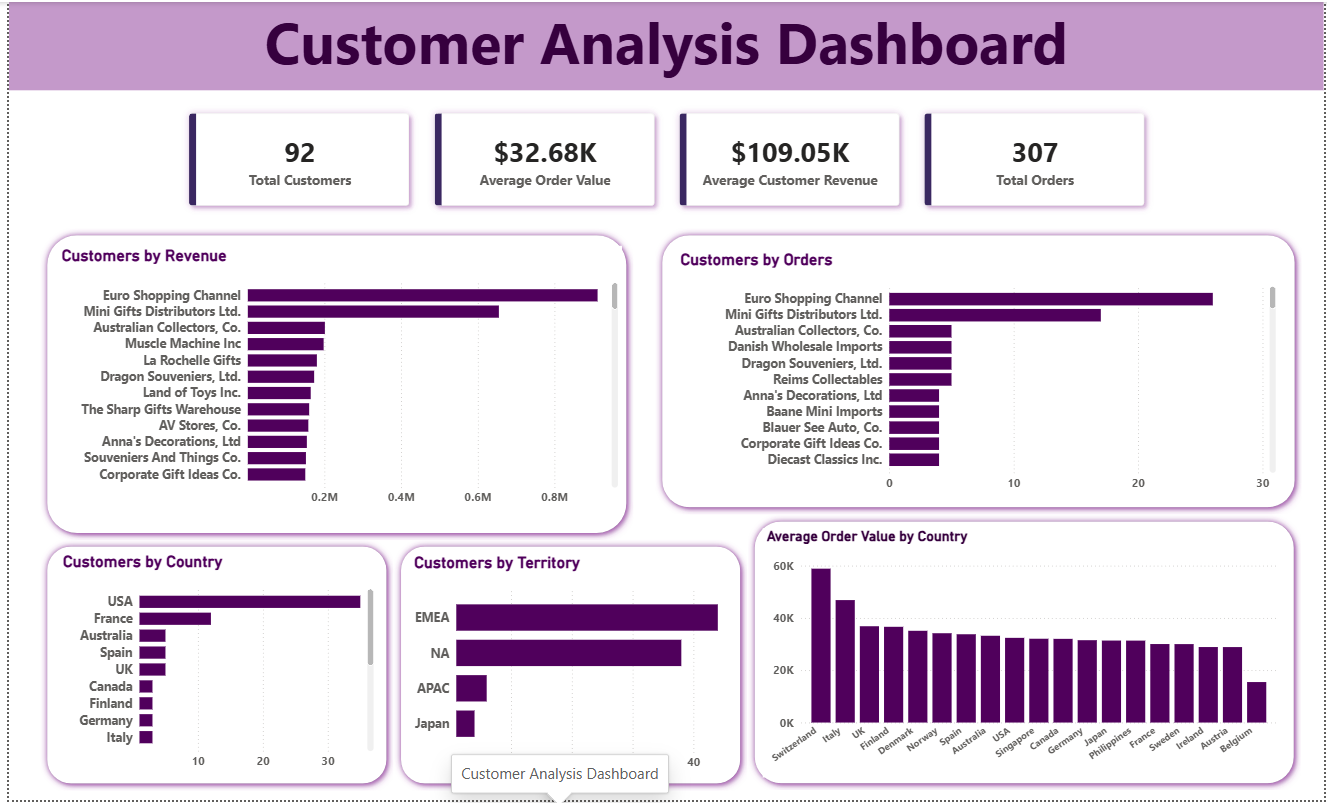

Layout of this report page (visuals, bound fields, positions):
{"tool":"powerbi","page":{"name":"Customer Analysis Dashboard ","canvas":[1680,1020],"ordinal":2},"visuals":[{"type":"cardVisual","fields":{"Data":["Measures (2).Total Customers","Measures (2).Average Order Value","Measures (2).Average Customer Revenue","Measures (2).Total Orders"]},"box":[200.9,112.8,1279.4,176.2],"z":0},{"type":"shape","title":"Customer Analysis Dashboard","box":[0,0,1679.4,112.8],"z":1000},{"type":"shape","box":[40.5,289,757.8,398.3],"z":2000},{"type":"clusteredBarChart","title":"Customers by Revenue","fields":{"Y":["Measures (2).Total Revenue"],"Category":["Customers.customer_company_name"]},"box":[61.7,311.9,720.8,341.9],"z":3000},{"type":"shape","box":[825.8,289.8,825.8,365.5],"z":4000},{"type":"clusteredBarChart","title":"Customers by Orders","fields":{"Category":["Customers.customer_company_name"],"Y":["Measures (2).Total Orders"]},"box":[852.3,316.3,770.9,318.2],"z":5000},{"type":"shape","box":[40.5,687.3,451.1,320.7],"z":6000},{"type":"clusteredBarChart","title":"Customers by Country","fields":{"Category":["Customers.country"],"Y":["Measures (2).Total Customers"]},"box":[63.4,703.1,407.1,287.3],"z":7000},{"type":"shape","box":[491.7,687.3,451.1,320.7],"z":8000},{"type":"clusteredBarChart","title":"Customers by Territory","fields":{"Y":["Measures (2).Total Customers"],"Category":["Customers.territory"]},"box":[513.3,704.6,407.1,287.3],"z":9000},{"type":"shape","box":[943.2,655.3,706.5,352.3],"z":10000},{"type":"columnChart","title":"Average Order Value by Country","fields":{"Y":["Measures (2).Average Order Value"],"Category":["Customers.country"]},"box":[962.2,672.4,661,318.2],"z":11000}]}

Visuals, with their boxes in screenshot pixels (x1, y1, x2, y2), scaled from the page's 1680x1020 canvas onto the 1327x803 screenshot:
cardVisual - Measures (2).Total Customers x Measures (2).Average Order Value: rect(159, 89, 1169, 228)
"Customer Analysis Dashboard" shape: rect(0, 0, 1326, 89)
shape: rect(32, 228, 631, 541)
"Customers by Revenue" clusteredBarChart: rect(49, 246, 618, 515)
shape: rect(652, 228, 1305, 516)
"Customers by Orders" clusteredBarChart: rect(673, 249, 1282, 500)
shape: rect(32, 541, 388, 794)
"Customers by Country" clusteredBarChart: rect(50, 554, 372, 780)
shape: rect(388, 541, 745, 794)
"Customers by Territory" clusteredBarChart: rect(405, 555, 727, 781)
shape: rect(745, 516, 1303, 793)
"Average Order Value by Country" columnChart: rect(760, 529, 1282, 780)
